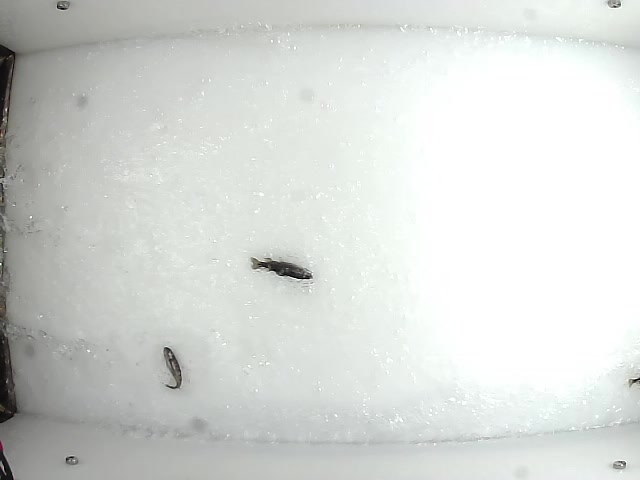fish: (247, 254, 313, 282), (158, 345, 181, 391)
